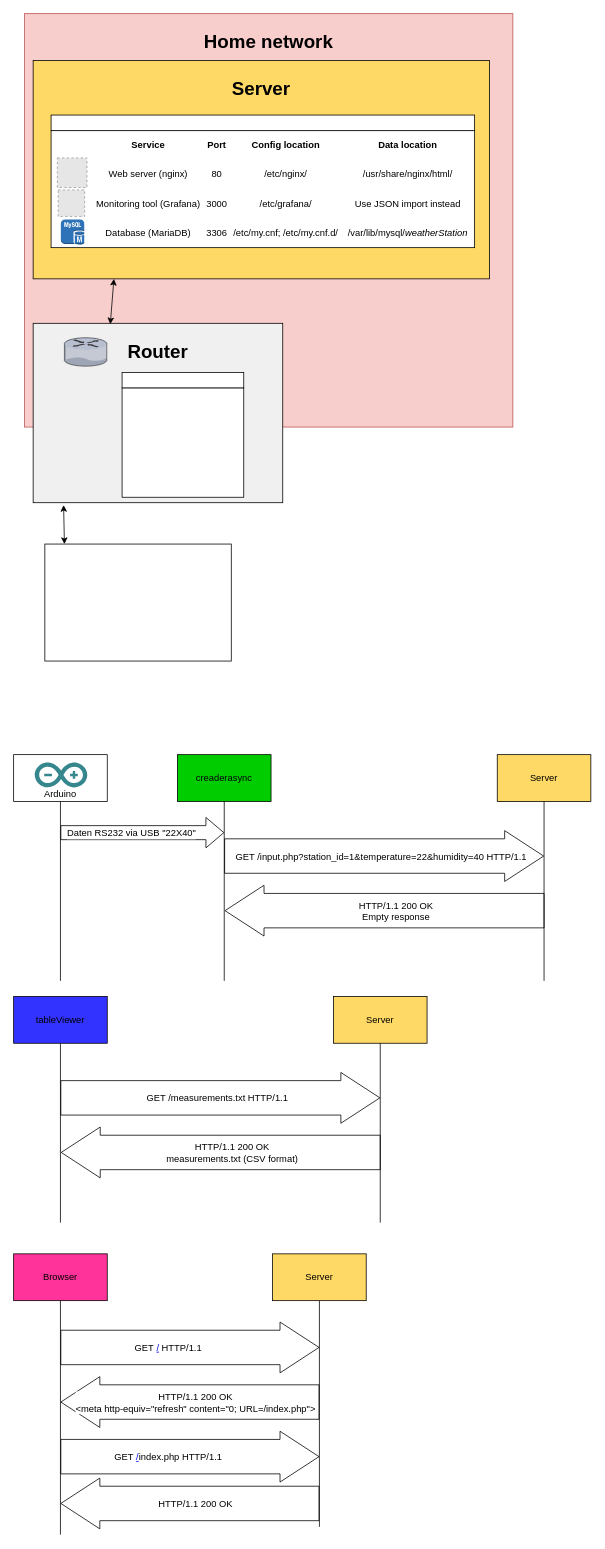
Some shapes in this 605 by 1549 pixel diagram are drawn without their labels. Grey dashed boxes stand in for pictures. Each missing label, with the centre of its shape:
"Client creaderasync tableViewer Browser" goes at point (137, 602).
"externally internally 81 Server:80 3000 Server:3000 3306 Server:3306" goes at point (182, 442).
"Port Access Translation" goes at point (182, 380).
"Service infos" goes at point (262, 122).
